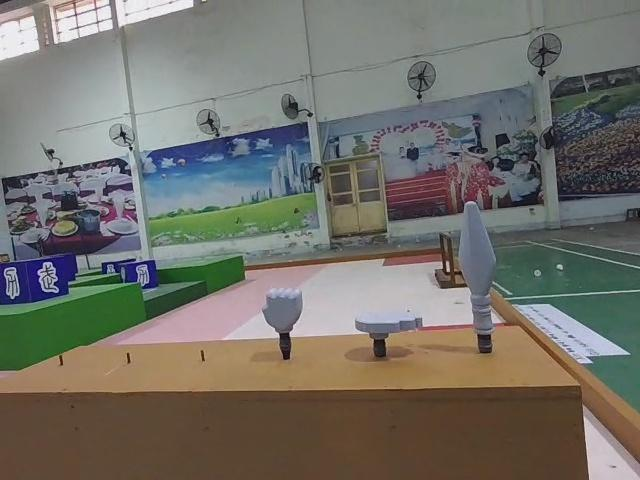Fist: (261, 288, 303, 362)
Hand: (354, 305, 426, 359)
Sph: (460, 196, 503, 357)
